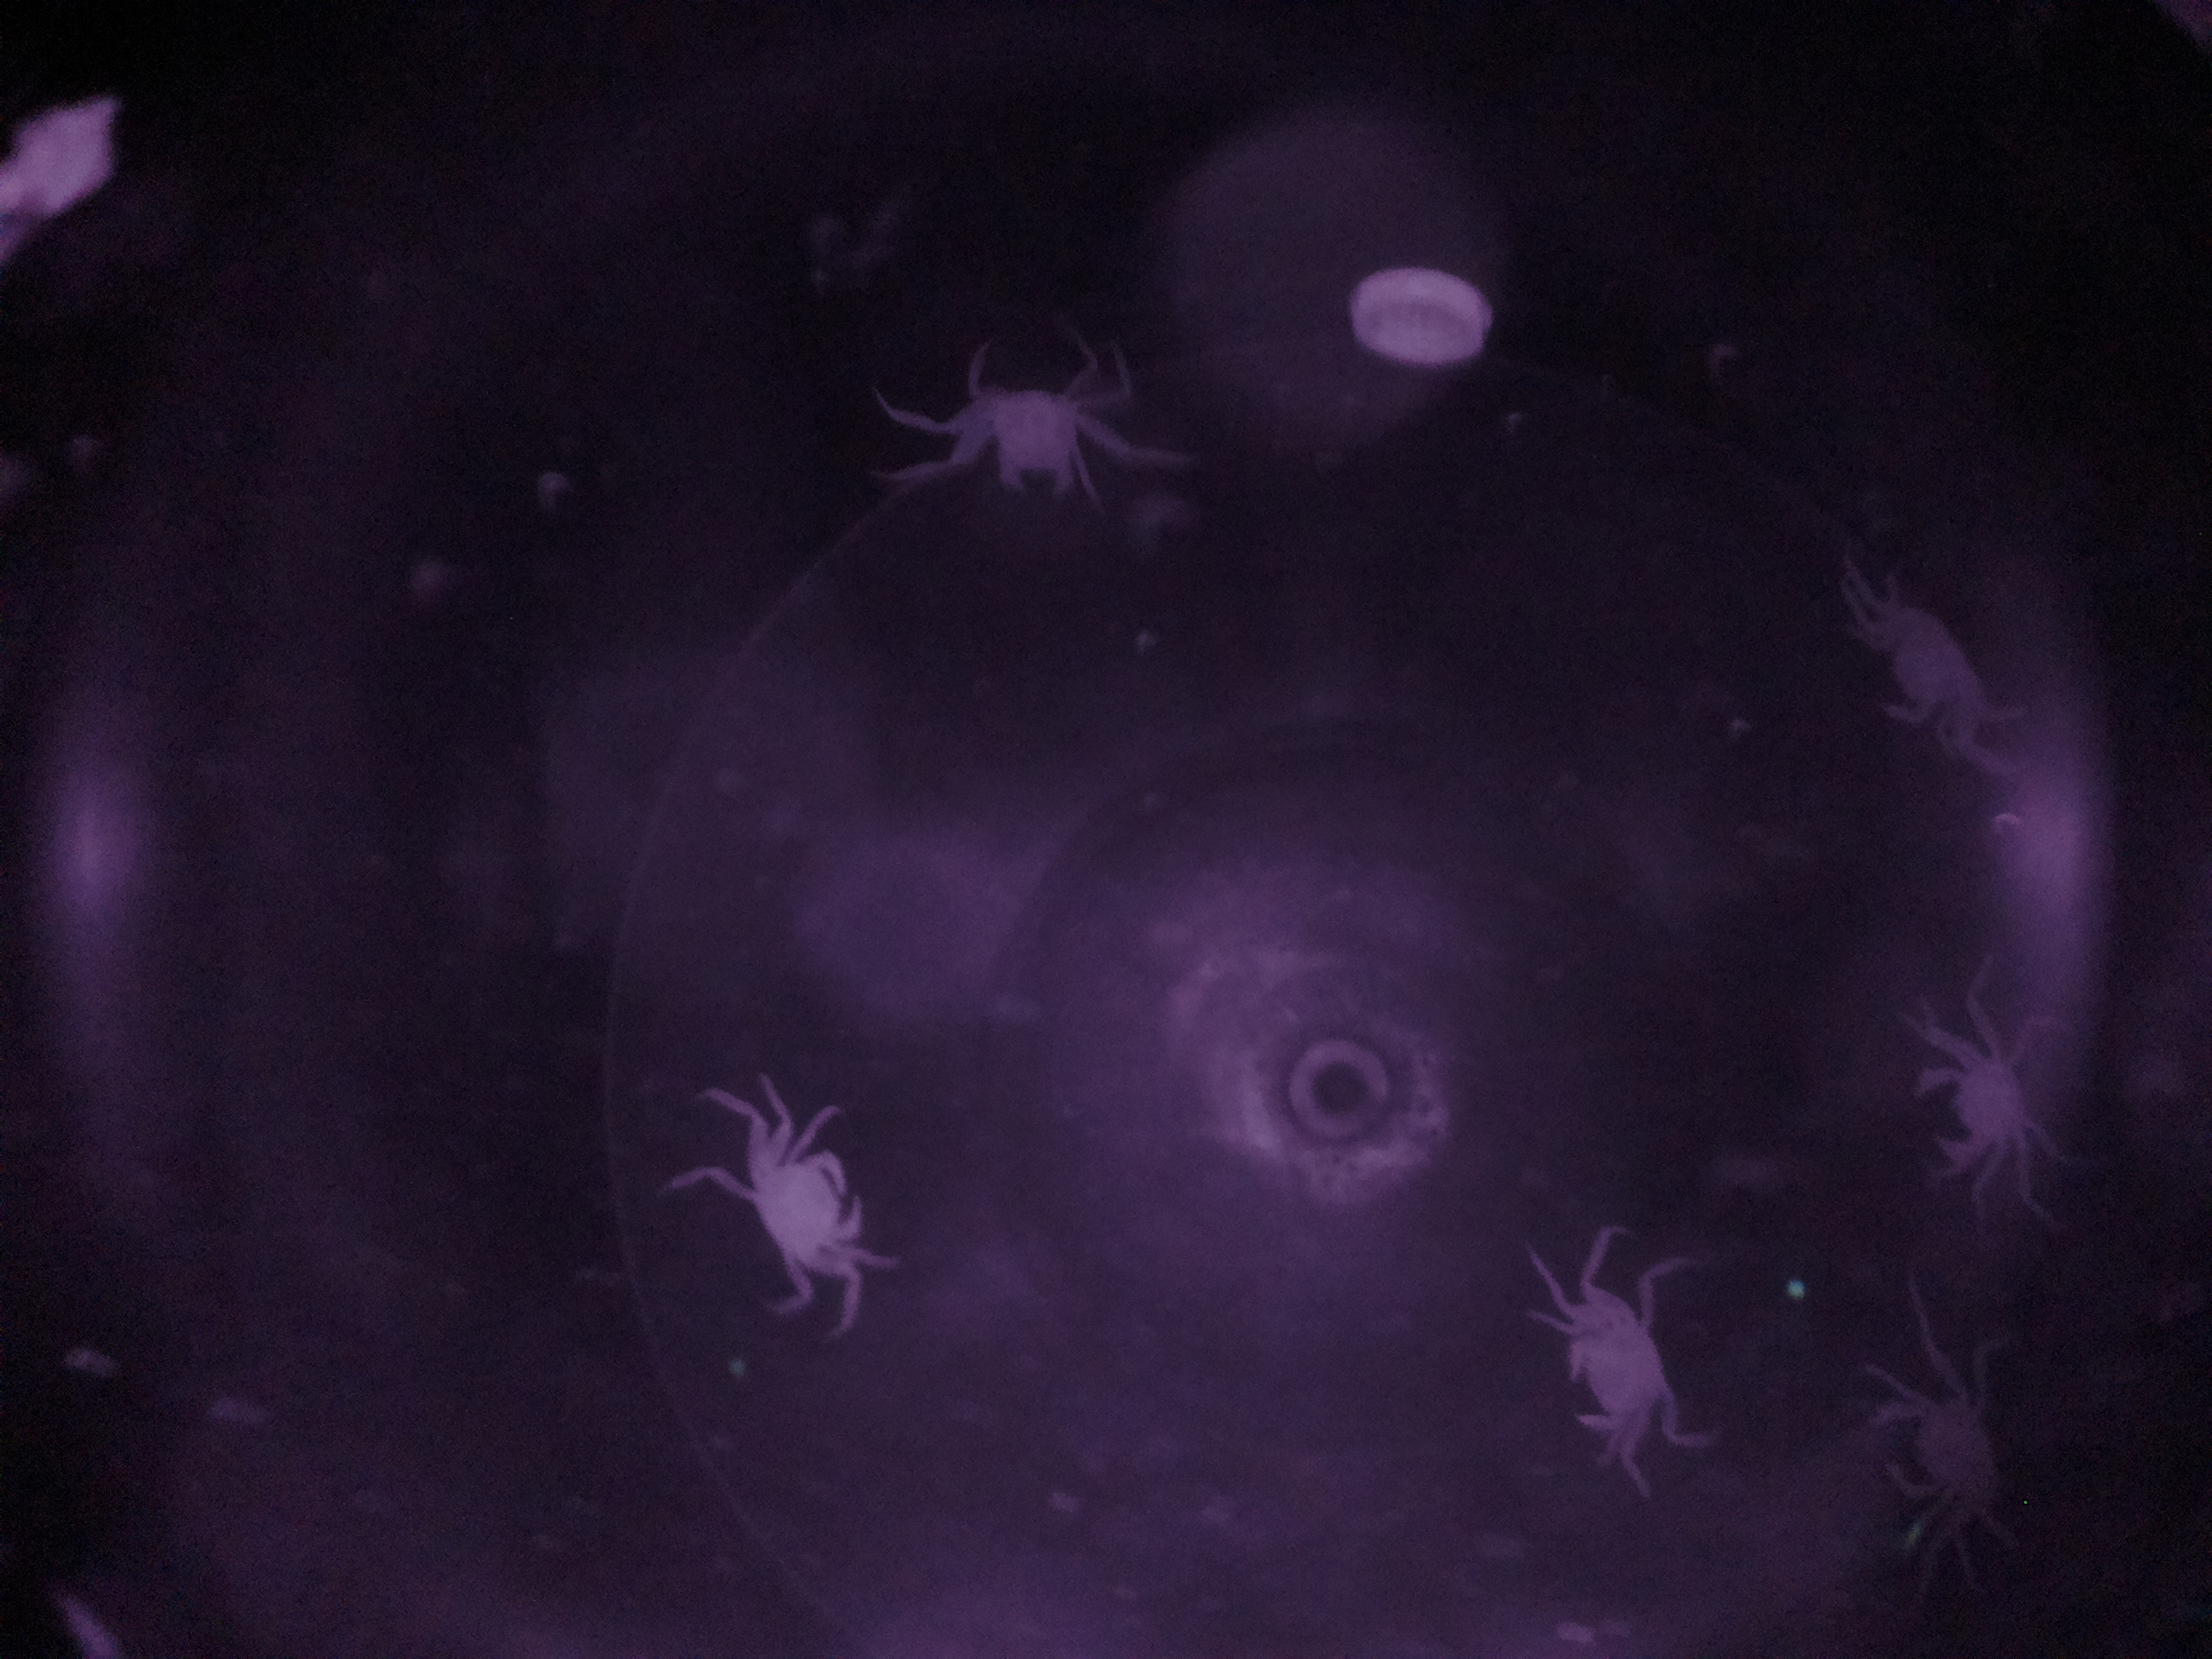Crab: (1543, 1265, 1703, 1485), (719, 1100, 892, 1303)
